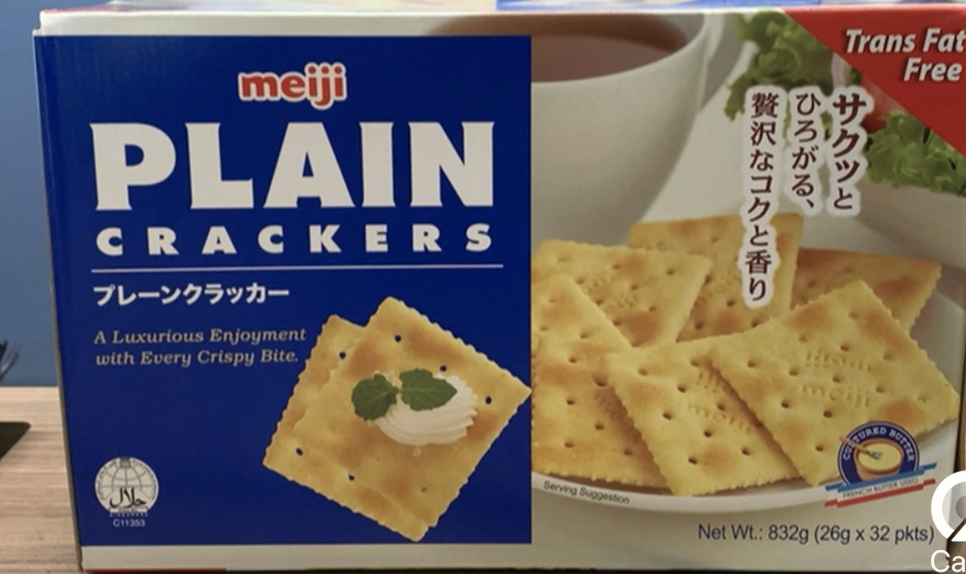crackers_800g-899g: (79, 46, 932, 558)
